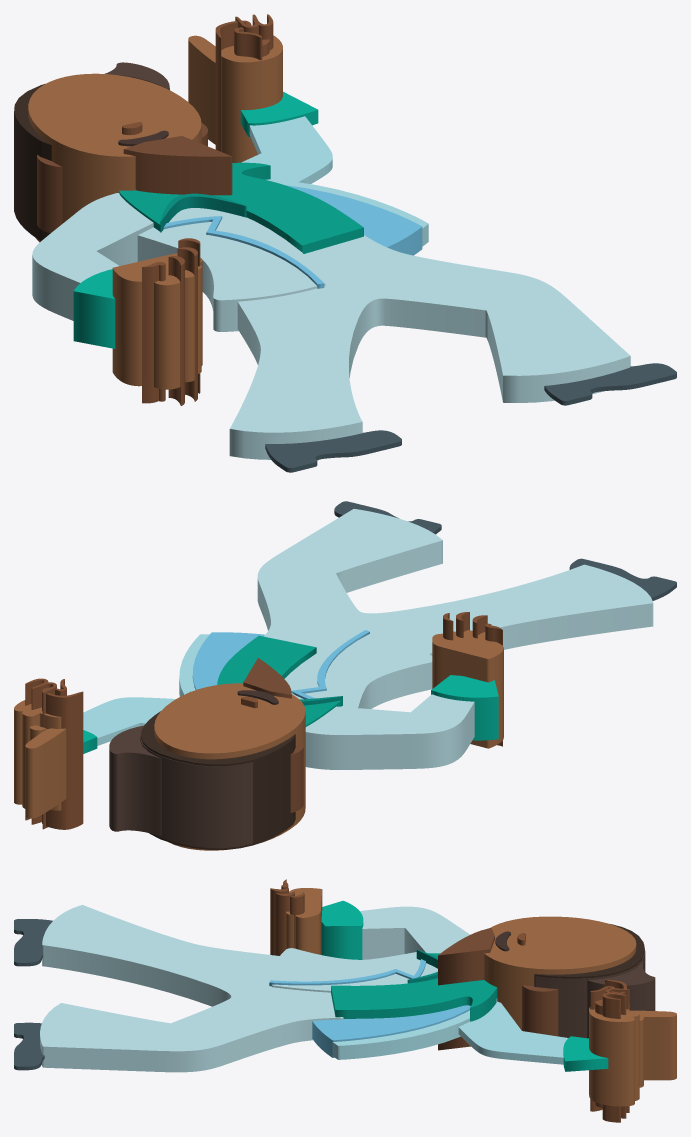
The model's file is emoji_u1f57a_1f3fe.glb.
The picture shows the model from 3 angles, top to bottom: view 1: azimuth 30°, elevation 25°; view 2: azimuth 150°, elevation 25°; view 3: azimuth 270°, elevation 25°; orthographic projection. The views are drawn at different scales.
Parts seen in each view (by area): view 1: emoji_u1f57a_1f3fe; view 2: emoji_u1f57a_1f3fe; view 3: emoji_u1f57a_1f3fe.
Part boxes in pixels (x1=…): emoji_u1f57a_1f3fe: x1=14, y1=14, x2=676, y2=472; emoji_u1f57a_1f3fe: x1=14, y1=501, x2=676, y2=850; emoji_u1f57a_1f3fe: x1=14, y1=879, x2=676, y2=1122.
Size of the model in its own units: 0.0187 by 0.007 by 0.0342.
